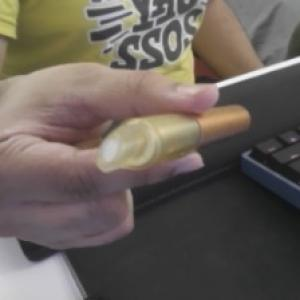Golden-E-Ciggirate: (97, 102, 250, 172)
